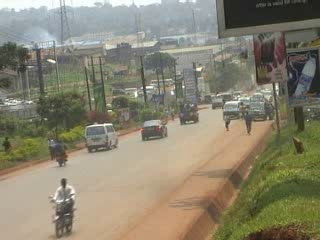Car: (140, 119, 168, 141), (210, 96, 225, 111)
Motorcycle: (45, 191, 75, 239), (53, 150, 67, 167)
